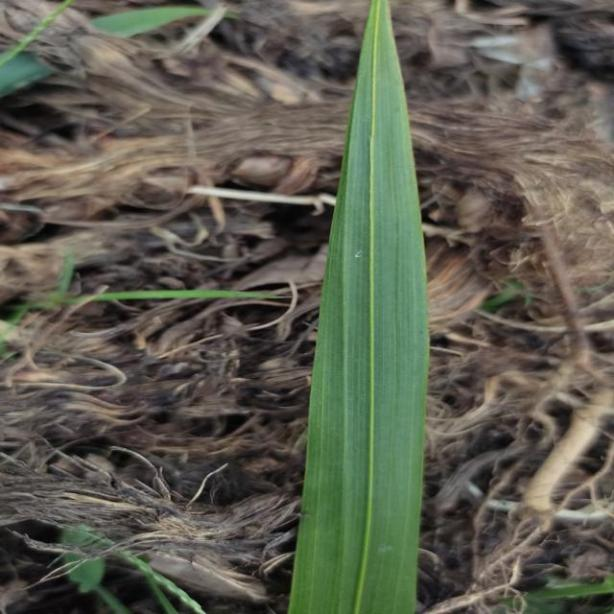Healthy: (284, 1, 431, 614)
